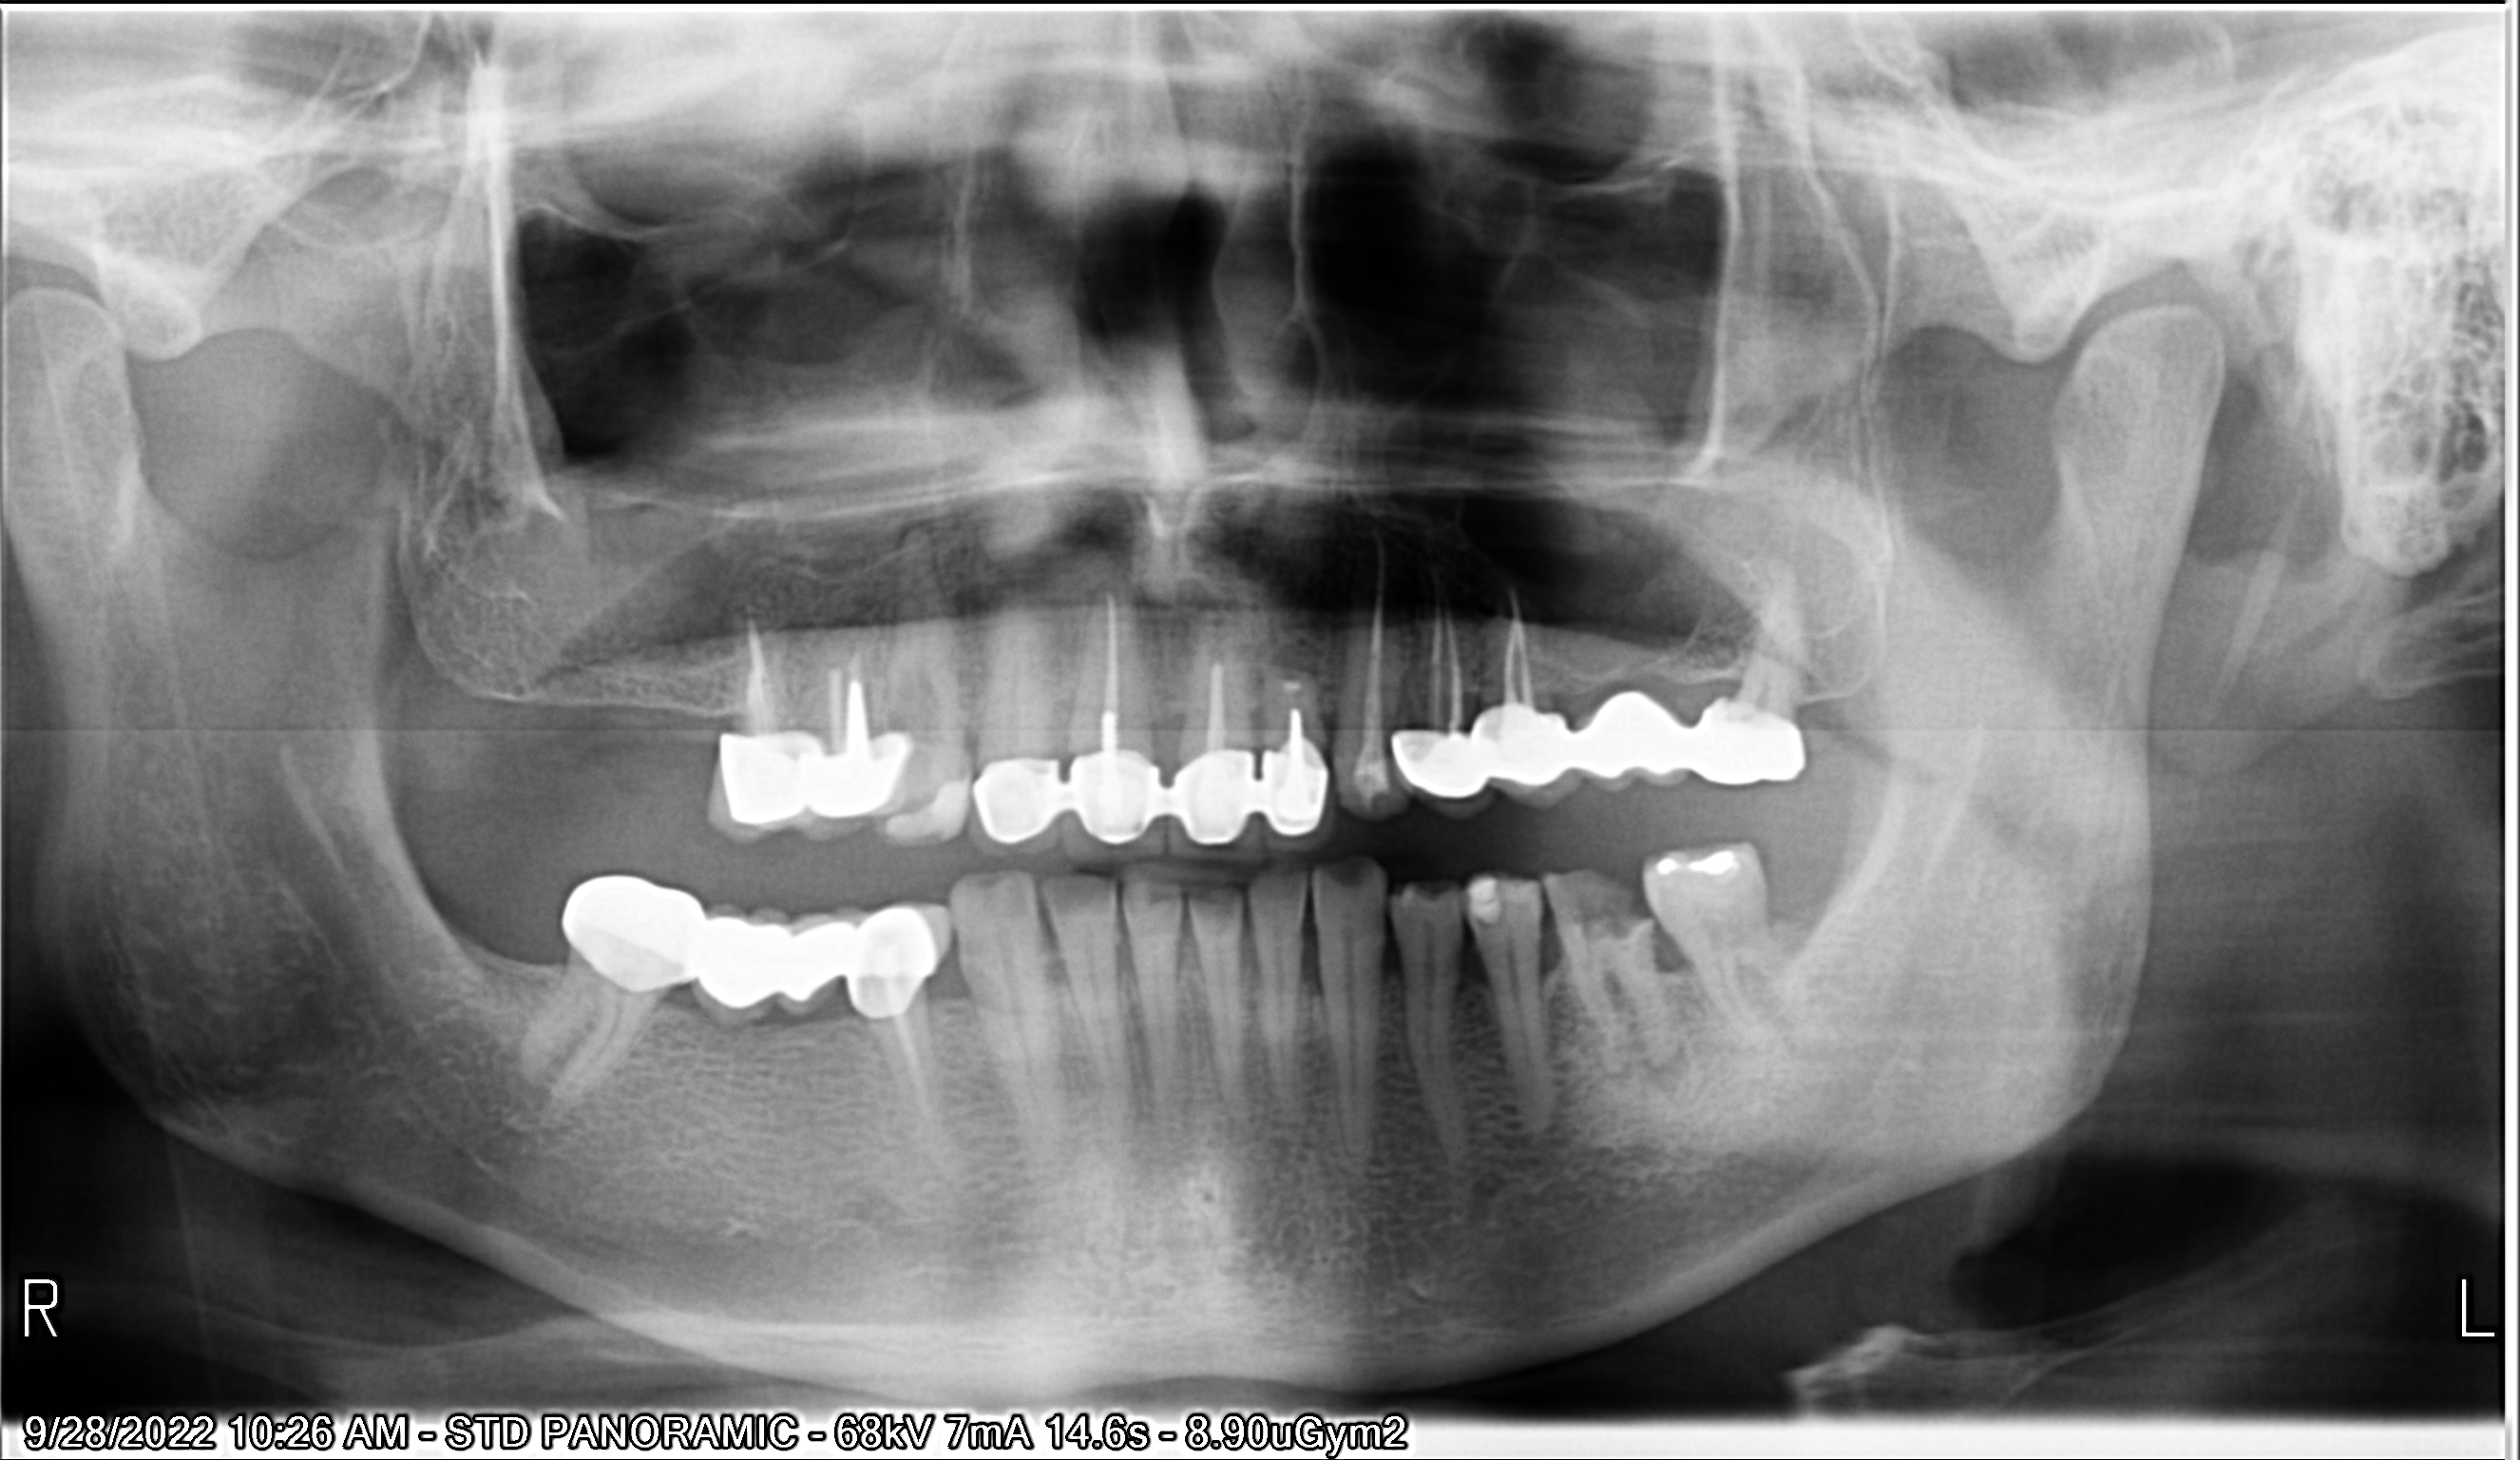BON: (1452, 933, 1501, 996), (1367, 925, 1412, 991), (1645, 916, 1690, 977), (1532, 916, 1567, 985)
CAR: (1549, 879, 1650, 942)
END: (1089, 584, 1136, 751), (1353, 587, 1395, 751), (1421, 607, 1469, 735), (731, 624, 787, 735), (1499, 582, 1544, 704), (827, 664, 877, 756), (1195, 655, 1238, 753), (1273, 667, 1313, 751)
OBT: (893, 775, 966, 848), (1346, 753, 1395, 819), (1660, 848, 1744, 881), (1461, 879, 1501, 925)
PRR: (575, 873, 941, 1019), (1403, 690, 1806, 796), (966, 744, 1318, 841), (726, 730, 903, 839)
